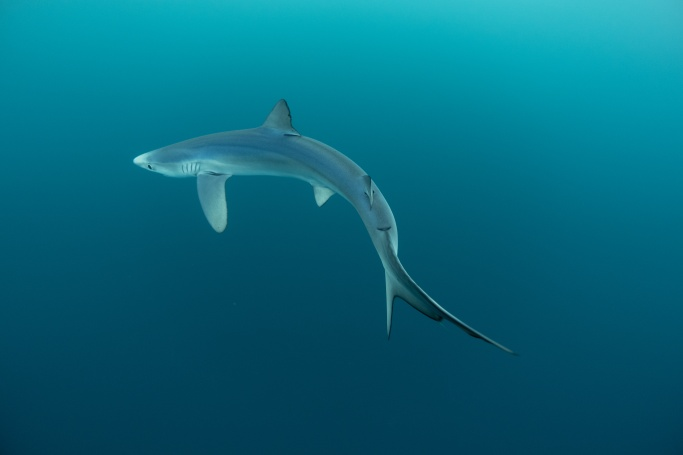Azul: (96, 71, 542, 388)
